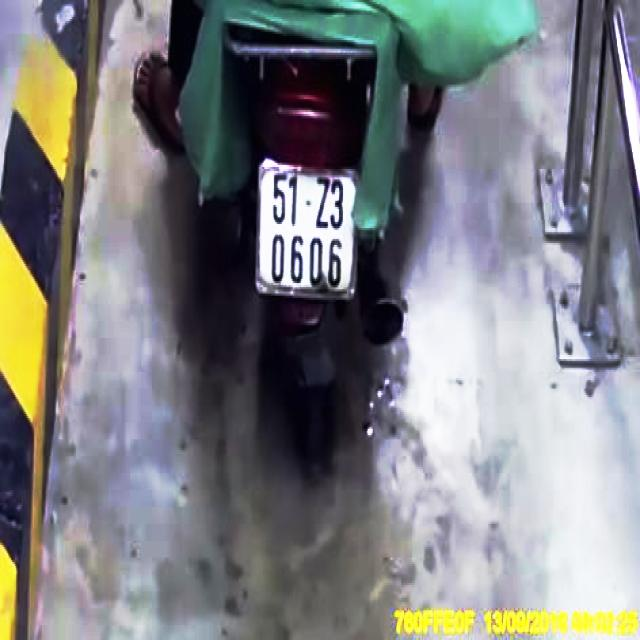license_plate: (258, 168, 359, 301)
